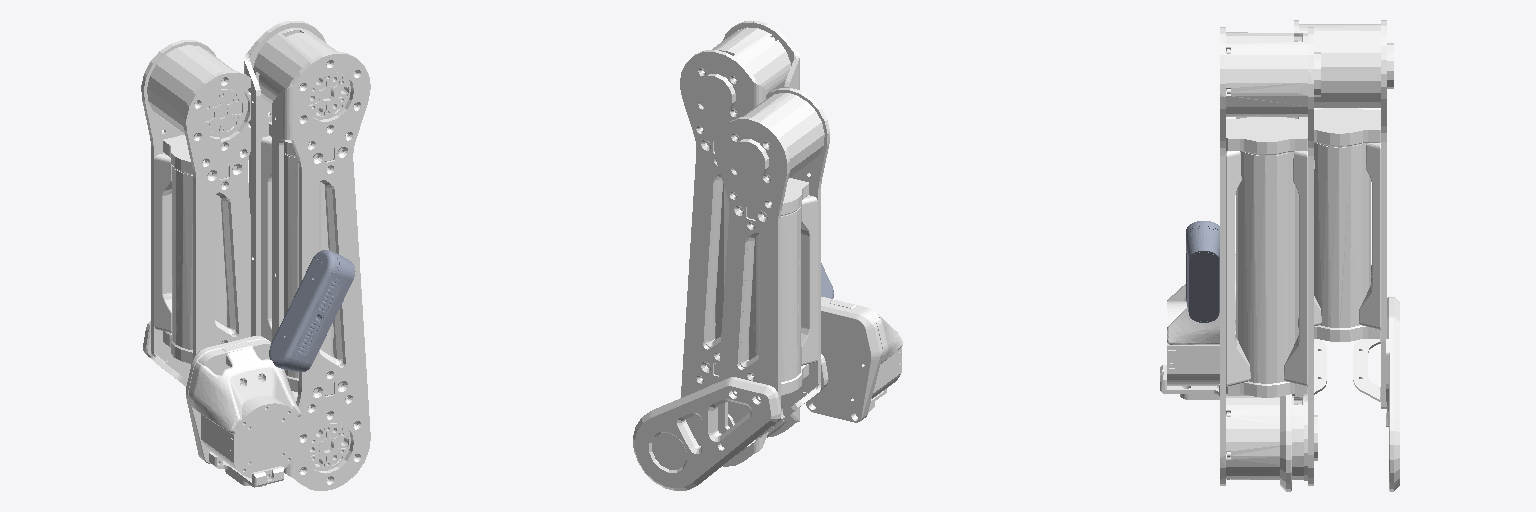
robot.urdf — xpkg_urdf_gp100:
<?xml version="1.0" encoding="utf-8"?>
<!-- This URDF was automatically created by SolidWorks to URDF Exporter! Originally created by Stephen Brawner (brawner@gmail.com) 
     Commit Version: 1.6.0-4-g7f85cfe  Build Version: 1.6.7995.38578
     For more information, please see http://wiki.ros.org/sw_urdf_exporter -->
<robot
  name="xpkg_urdf_gp100">
  <link
    name="base_link">
    <inertial>
      <origin
        xyz="0.042219282440729 1.16390215941682E-07 0.01162334531415"
        rpy="0 0 0" />
      <mass
        value="0.283322504998722" />
      <inertia
        ixx="0.000242487117048296"
        ixy="-3.74547842286707E-10"
        ixz="4.17566201111449E-06"
        iyy="0.000255394628570382"
        iyz="8.97915208846709E-08"
        izz="0.000176779055302913" />
    </inertial>
    <visual>
      <origin
        xyz="0 0 0"
        rpy="0 0 0" />
      <geometry>
        <mesh
          filename="package://xpkg_urdf_gp100/meshes/base_link.STL" />
      </geometry>
      <material
        name="">
        <color
          rgba="1 1 1 1" />
      </material>
    </visual>
    <collision>
      <origin
        xyz="0 0 0"
        rpy="0 0 0" />
      <geometry>
        <mesh
          filename="package://xpkg_urdf_gp100/meshes/base_link.STL" />
      </geometry>
    </collision>
  </link>
  <link
    name="link_camera">
    <inertial>
      <origin
        xyz="0.0102270276002466 -6.05667666775424E-05 -0.00618904184229618"
        rpy="0 0 0" />
      <mass
        value="0.120826225038652" />
      <inertia
        ixx="5.73194847431621E-05"
        ixy="-8.33375294170176E-10"
        ixz="2.7604375235226E-05"
        iyy="7.38661361030093E-05"
        iyz="-7.79872115467341E-09"
        izz="2.69681397158257E-05" />
    </inertial>
    <visual>
      <origin
        xyz="0 0 0"
        rpy="0 0 0" />
      <geometry>
        <mesh
          filename="package://xpkg_urdf_gp100/meshes/link_camera.STL" />
      </geometry>
      <material
        name="">
        <color
          rgba="0.666666666666667 0.698039215686274 0.768627450980392 1" />
      </material>
    </visual>
    <collision>
      <origin
        xyz="0 0 0"
        rpy="0 0 0" />
      <geometry>
        <mesh
          filename="package://xpkg_urdf_gp100/meshes/link_camera.STL" />
      </geometry>
    </collision>
  </link>
  <joint
    name="joint_camera"
    type="fixed">
    <origin
      xyz="0.0404204160928877 0 0.120140814565426"
      rpy="0 0 0" />
    <parent
      link="base_link" />
    <child
      link="link_camera" />
    <axis
      xyz="0 0 0" />
  </joint>
  <link
    name="link_1">
    <inertial>
      <origin
        xyz="0.0029935703031096 0.0232625245463094 -4.99999999996614E-05"
        rpy="0 0 0" />
      <mass
        value="0.00594562490946931" />
      <inertia
        ixx="2.71490620979611E-06"
        ixy="2.02461043281452E-07"
        ixz="-2.28988076679175E-21"
        iyy="1.50874611657048E-06"
        iyz="-1.37934352421432E-20"
        izz="1.34732225327847E-06" />
    </inertial>
    <visual>
      <origin
        xyz="0 0 0"
        rpy="0 0 0" />
      <geometry>
        <mesh
          filename="package://xpkg_urdf_gp100/meshes/link_1.STL" />
      </geometry>
      <material
        name="">
        <color
          rgba="1 1 1 1" />
      </material>
    </visual>
    <collision>
      <origin
        xyz="0 0 0"
        rpy="0 0 0" />
      <geometry>
        <mesh
          filename="package://xpkg_urdf_gp100/meshes/link_1.STL" />
      </geometry>
    </collision>
  </link>
  <joint
    name="joint_1"
    type="revolute">
    <origin
      xyz="0.057667 0.030604 2.5E-05"
      rpy="0 0 0" />
    <parent
      link="base_link" />
    <child
      link="link_1" />
    <axis
      xyz="0 0 -1" />
    <limit
      lower="0"
      upper="1.52"
      effort="5"
      velocity="2" />
  </joint>
  <link
    name="link_4">
    <inertial>
      <origin
        xyz="0.00299357030310961 -0.0232625245463094 -4.99999999996614E-05"
        rpy="0 0 0" />
      <mass
        value="0.00594562490946931" />
      <inertia
        ixx="2.71490620979611E-06"
        ixy="-2.02461043281451E-07"
        ixz="-2.38955006998429E-21"
        iyy="1.50874611657048E-06"
        iyz="1.40751868306916E-20"
        izz="1.34732225327847E-06" />
    </inertial>
    <visual>
      <origin
        xyz="0 0 0"
        rpy="0 0 0" />
      <geometry>
        <mesh
          filename="package://xpkg_urdf_gp100/meshes/link_4.STL" />
      </geometry>
      <material
        name="">
        <color
          rgba="1 1 1 1" />
      </material>
    </visual>
    <collision>
      <origin
        xyz="0 0 0"
        rpy="0 0 0" />
      <geometry>
        <mesh
          filename="package://xpkg_urdf_gp100/meshes/link_4.STL" />
      </geometry>
    </collision>
  </link>
  <joint
    name="joint_4"
    type="revolute">
    <origin
      xyz="0.057667 -0.030604 2.5E-05"
      rpy="0 0 0" />
    <parent
      link="base_link" />
    <child
      link="link_4" />
    <axis
      xyz="0 0 1" />
    <limit
      lower="0"
      upper="1.52"
      effort="5"
      velocity="2" />
  </joint>
  <link
    name="link_2">
    <inertial>
      <origin
        xyz="0.00299357030311495 0.0232625245463087 -4.99999999998835E-05"
        rpy="0 0 0" />
      <mass
        value="0.00594562490946931" />
      <inertia
        ixx="2.71490620979602E-06"
        ixy="2.0246104328173E-07"
        ixz="-2.11005798684075E-21"
        iyy="1.50874611657057E-06"
        iyz="-1.29183190272206E-20"
        izz="1.34732225327847E-06" />
    </inertial>
    <visual>
      <origin
        xyz="0 0 0"
        rpy="0 0 0" />
      <geometry>
        <mesh
          filename="package://xpkg_urdf_gp100/meshes/link_2.STL" />
      </geometry>
      <material
        name="">
        <color
          rgba="1 1 1 1" />
      </material>
    </visual>
    <collision>
      <origin
        xyz="0 0 0"
        rpy="0 0 0" />
      <geometry>
        <mesh
          filename="package://xpkg_urdf_gp100/meshes/link_2.STL" />
      </geometry>
    </collision>
  </link>
  <joint
    name="joint_2"
    type="revolute">
    <origin
      xyz="0.0721 0.014 2.5E-05"
      rpy="0 0 0" />
    <parent
      link="base_link" />
    <child
      link="link_2" />
    <axis
      xyz="0 0 -1" />
    <limit
      lower="0"
      upper="1.52"
      effort="5"
      velocity="2" />
  </joint>
  <link
    name="link_3">
    <inertial>
      <origin
        xyz="0.0255016384075726 0.00914641783954277 -0.00175616938344625"
        rpy="0 0 0" />
      <mass
        value="0.0339318813734253" />
      <inertia
        ixx="4.34563605399316E-06"
        ixy="-2.9309446392394E-06"
        ixz="-5.93337815957799E-08"
        iyy="1.27759940699414E-05"
        iyz="-2.09898797659014E-08"
        izz="1.35550153069492E-05" />
    </inertial>
    <visual>
      <origin
        xyz="0 0 0"
        rpy="0 0 0" />
      <geometry>
        <mesh
          filename="package://xpkg_urdf_gp100/meshes/link_3.STL" />
      </geometry>
      <material
        name="">
        <color
          rgba="1 1 1 1" />
      </material>
    </visual>
    <collision>
      <origin
        xyz="0 0 0"
        rpy="0 0 0" />
      <geometry>
        <mesh
          filename="package://xpkg_urdf_gp100/meshes/link_3.STL" />
      </geometry>
    </collision>
  </link>
  <joint
    name="jint_3"
    type="revolute">
    <origin
      xyz="0.0085108 0.04927 0"
      rpy="0 0 0" />
    <parent
      link="link_2" />
    <child
      link="link_3" />
    <axis
      xyz="0 0 1" />
    <limit
      lower="0"
      upper="1.52"
      effort="5"
      velocity="2" />
  </joint>
  <link
    name="link_5">
    <inertial>
      <origin
        xyz="0.00299357030311496 -0.0232625245463087 -4.99999999998835E-05"
        rpy="0 0 0" />
      <mass
        value="0.0059456249094693" />
      <inertia
        ixx="2.71490620979601E-06"
        ixy="-2.02461043281729E-07"
        ixz="-2.21997932746482E-21"
        iyy="1.50874611657057E-06"
        iyz="1.32117390179666E-20"
        izz="1.34732225327847E-06" />
    </inertial>
    <visual>
      <origin
        xyz="0 0 0"
        rpy="0 0 0" />
      <geometry>
        <mesh
          filename="package://xpkg_urdf_gp100/meshes/link_5.STL" />
      </geometry>
      <material
        name="">
        <color
          rgba="1 1 1 1" />
      </material>
    </visual>
    <collision>
      <origin
        xyz="0 0 0"
        rpy="0 0 0" />
      <geometry>
        <mesh
          filename="package://xpkg_urdf_gp100/meshes/link_5.STL" />
      </geometry>
    </collision>
  </link>
  <joint
    name="joint_5"
    type="revolute">
    <origin
      xyz="0.0721 -0.014 2.5E-05"
      rpy="0 0 0" />
    <parent
      link="base_link" />
    <child
      link="link_5" />
    <axis
      xyz="0 0 1" />
    <limit
      lower="0"
      upper="1.52"
      effort="5"
      velocity="2" />
  </joint>
  <link
    name="link_6">
    <inertial>
      <origin
        xyz="0.0255016144765457 -0.00914642476472447 -0.00175616300903703"
        rpy="0 0 0" />
      <mass
        value="0.0339318665821072" />
      <inertia
        ixx="4.34563338107952E-06"
        ixy="2.93093798198168E-06"
        ixz="-5.93286536028718E-08"
        iyy="1.27759708302427E-05"
        iyz="2.09910551971789E-08"
        izz="1.35549910017957E-05" />
    </inertial>
    <visual>
      <origin
        xyz="0 0 0"
        rpy="0 0 0" />
      <geometry>
        <mesh
          filename="package://xpkg_urdf_gp100/meshes/link_6.STL" />
      </geometry>
      <material
        name="">
        <color
          rgba="1 1 1 1" />
      </material>
    </visual>
    <collision>
      <origin
        xyz="0 0 0"
        rpy="0 0 0" />
      <geometry>
        <mesh
          filename="package://xpkg_urdf_gp100/meshes/link_6.STL" />
      </geometry>
    </collision>
  </link>
  <joint
    name="joint_6"
    type="revolute">
    <origin
      xyz="0.0085108 -0.04927 0"
      rpy="0 0 0" />
    <parent
      link="link_5" />
    <child
      link="link_6" />
    <axis
      xyz="0 0 -1" />
    <limit
      lower="0"
      upper="1.52"
      effort="5"
      velocity="2" />
  </joint>
</robot>

--- What the picture shows (computed from the rendered views, not written in the file) ---
3 views of the same robot in one strip: view 1: azimuth 30°, elevation 25°; view 2: azimuth 150°, elevation 25°; view 3: azimuth 270°, elevation 25° (orthographic).
Robot: xpkg_urdf_gp100 — 8 links, 7 joints (6 revolute, 1 fixed); root link base_link; default pose: all joints at 0.
Links seen in each view (by area): view 1: link_2, link_3, base_link, link_camera; view 2: link_3, link_2, base_link; view 3: link_2, link_3, base_link, link_camera.
Link boxes in pixels (left/top/right/bottom): link_2: left=244, top=21, right=370, bottom=490; link_3: left=141, top=40, right=346, bottom=398; base_link: left=186, top=336, right=300, bottom=487; link_camera: left=269, top=250, right=355, bottom=371; link_3: left=633, top=88, right=829, bottom=490; link_2: left=680, top=21, right=799, bottom=466; base_link: left=806, top=297, right=902, bottom=422; link_2: left=1220, top=27, right=1320, bottom=485; link_3: left=1280, top=20, right=1399, bottom=491; base_link: left=1160, top=254, right=1235, bottom=399; link_camera: left=1186, top=221, right=1219, bottom=322.
Bounding box of the posed robot: 0.1499 × 0.1622 × 0.3345 m (x, y, z).
4 mesh visuals loaded from 8 distinct referenced files (4 binary STL); not drawn: 4 (reference not matched to a file when rendering).
